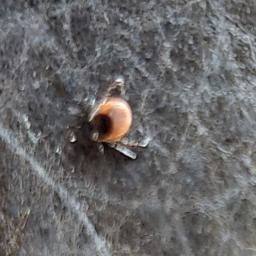Ixodes scapularis: (82, 88, 147, 159)
